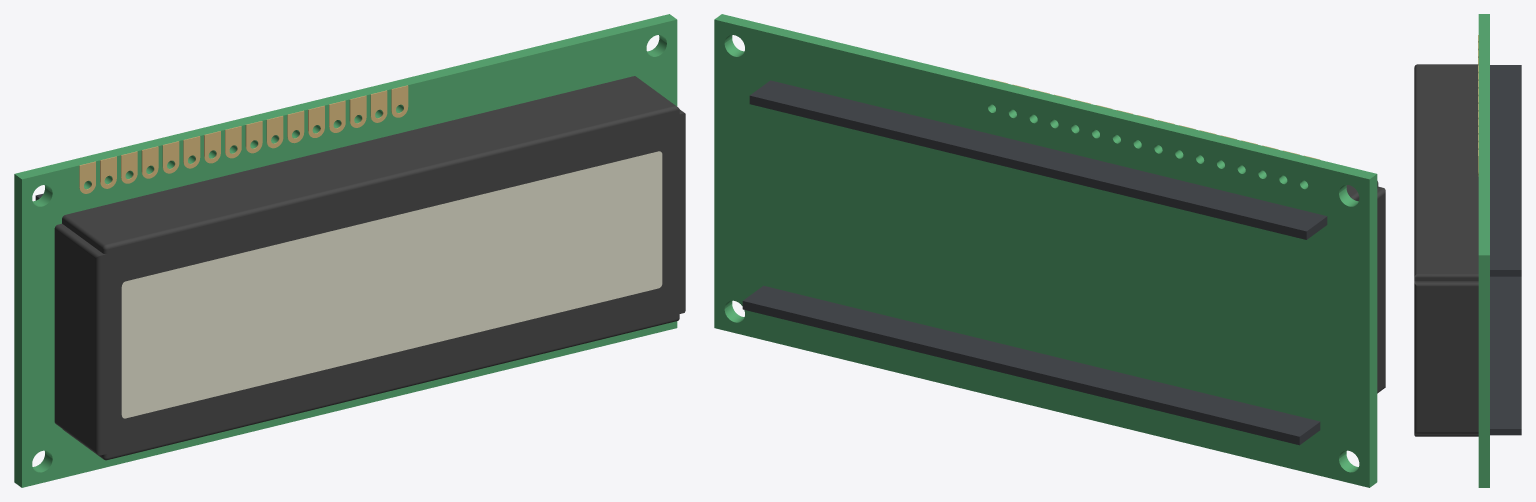
File: lcd1602.glb
3 views of the same model, side by side, from view 1: azimuth 30°, elevation 25°; view 2: azimuth 150°, elevation 25°; view 3: azimuth 270°, elevation 25° (orthographic). The views are drawn at different scales.
Visible parts, largest first — view 1: Pad_001_sp; view 2: Pad_001_sp; view 3: Pad_001_sp.
Part boxes in pixels (box(x1,y1,x2,y2)): Pad_001_sp: box(14, 14, 685, 487); Pad_001_sp: box(714, 14, 1385, 487); Pad_001_sp: box(1414, 14, 1521, 487).
Bounding box in the file's own units: 80 × 36 × 15.
